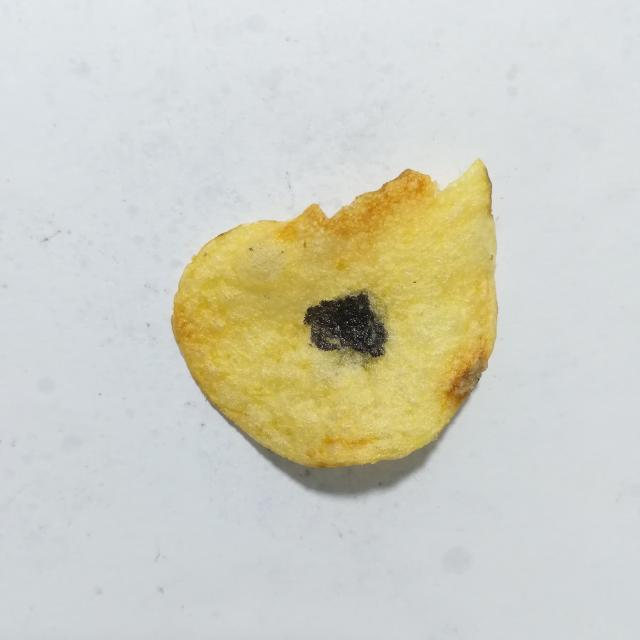chip: (171, 160, 497, 467)
damaged: (304, 292, 387, 357)
semi-damaged: (345, 286, 394, 340), (326, 337, 378, 367)
